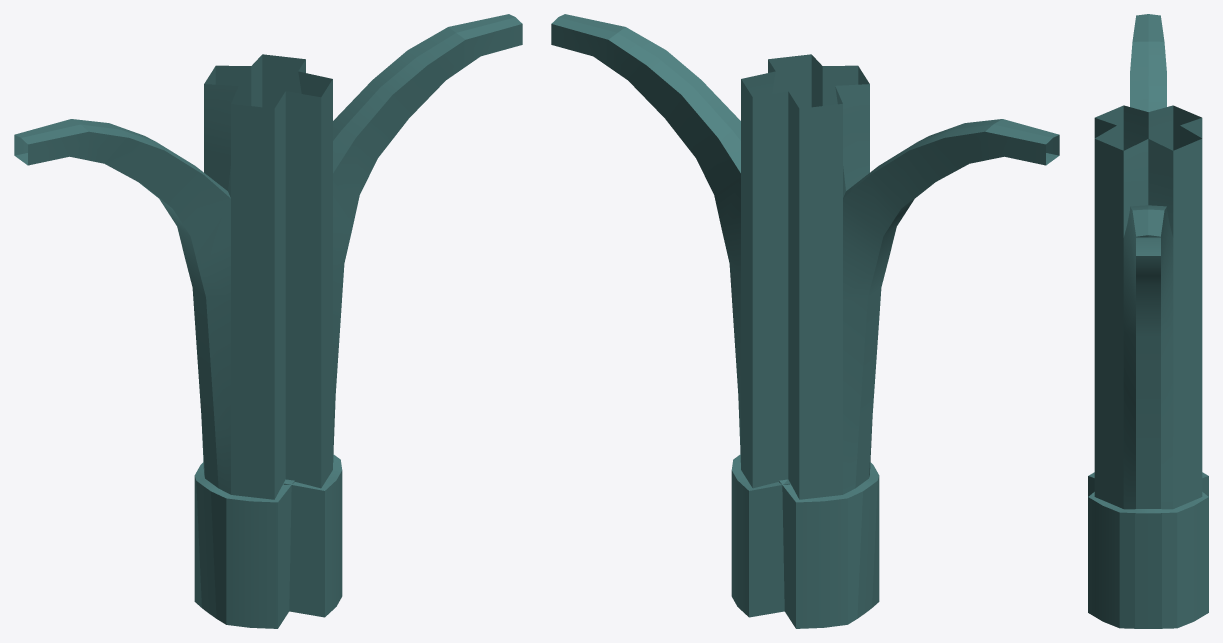
Rendered from Arch_Across.fbx.
The picture shows the model from 3 angles, left to right: view 1: azimuth 30°, elevation 25°; view 2: azimuth 150°, elevation 25°; view 3: azimuth 270°, elevation 25°; orthographic projection. The views are drawn at different scales.
Visible parts, largest first — view 1: Arch_Across; view 2: Arch_Across; view 3: Arch_Across.
Boxes of the visible parts, <box> form: Arch_Across: <box>14,14,522,628</box>; Arch_Across: <box>551,14,1059,628</box>; Arch_Across: <box>1088,14,1208,628</box>.
Size of the model in its own units: 400 by 403 by 92.24.
